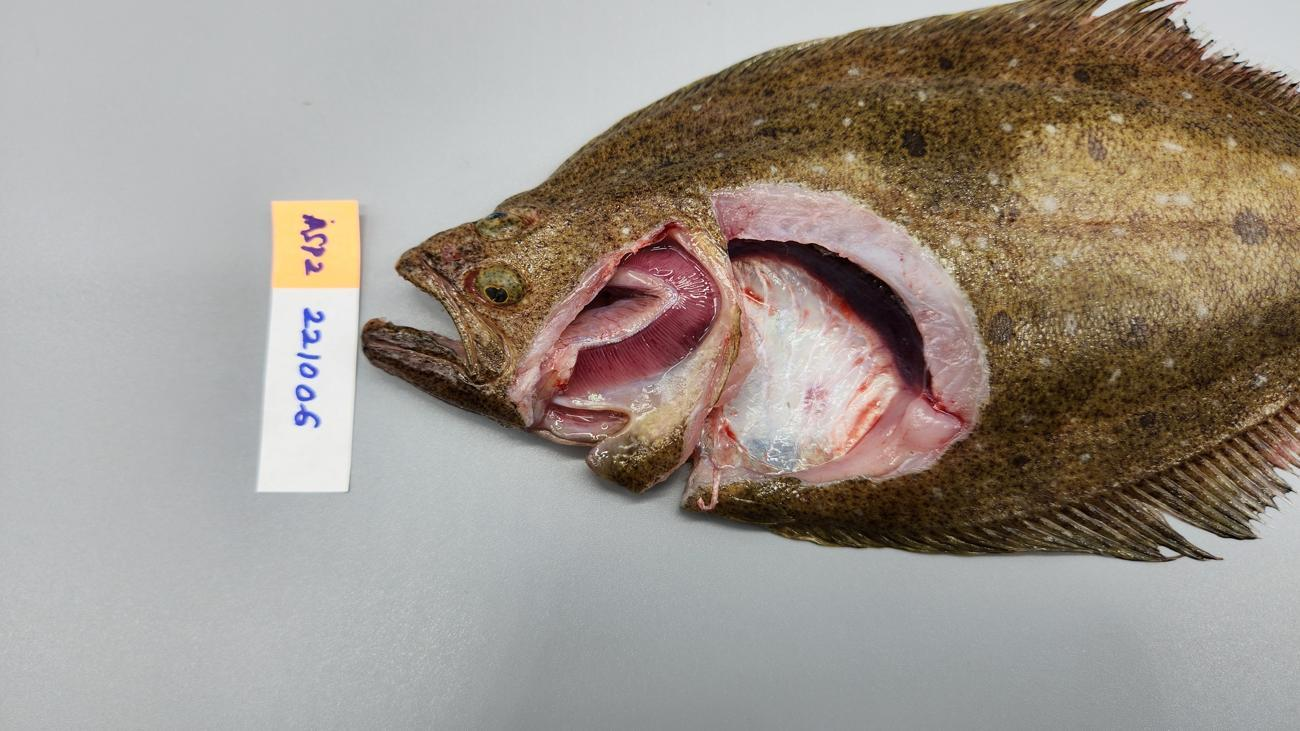SPASQ: (720, 258, 905, 468)
